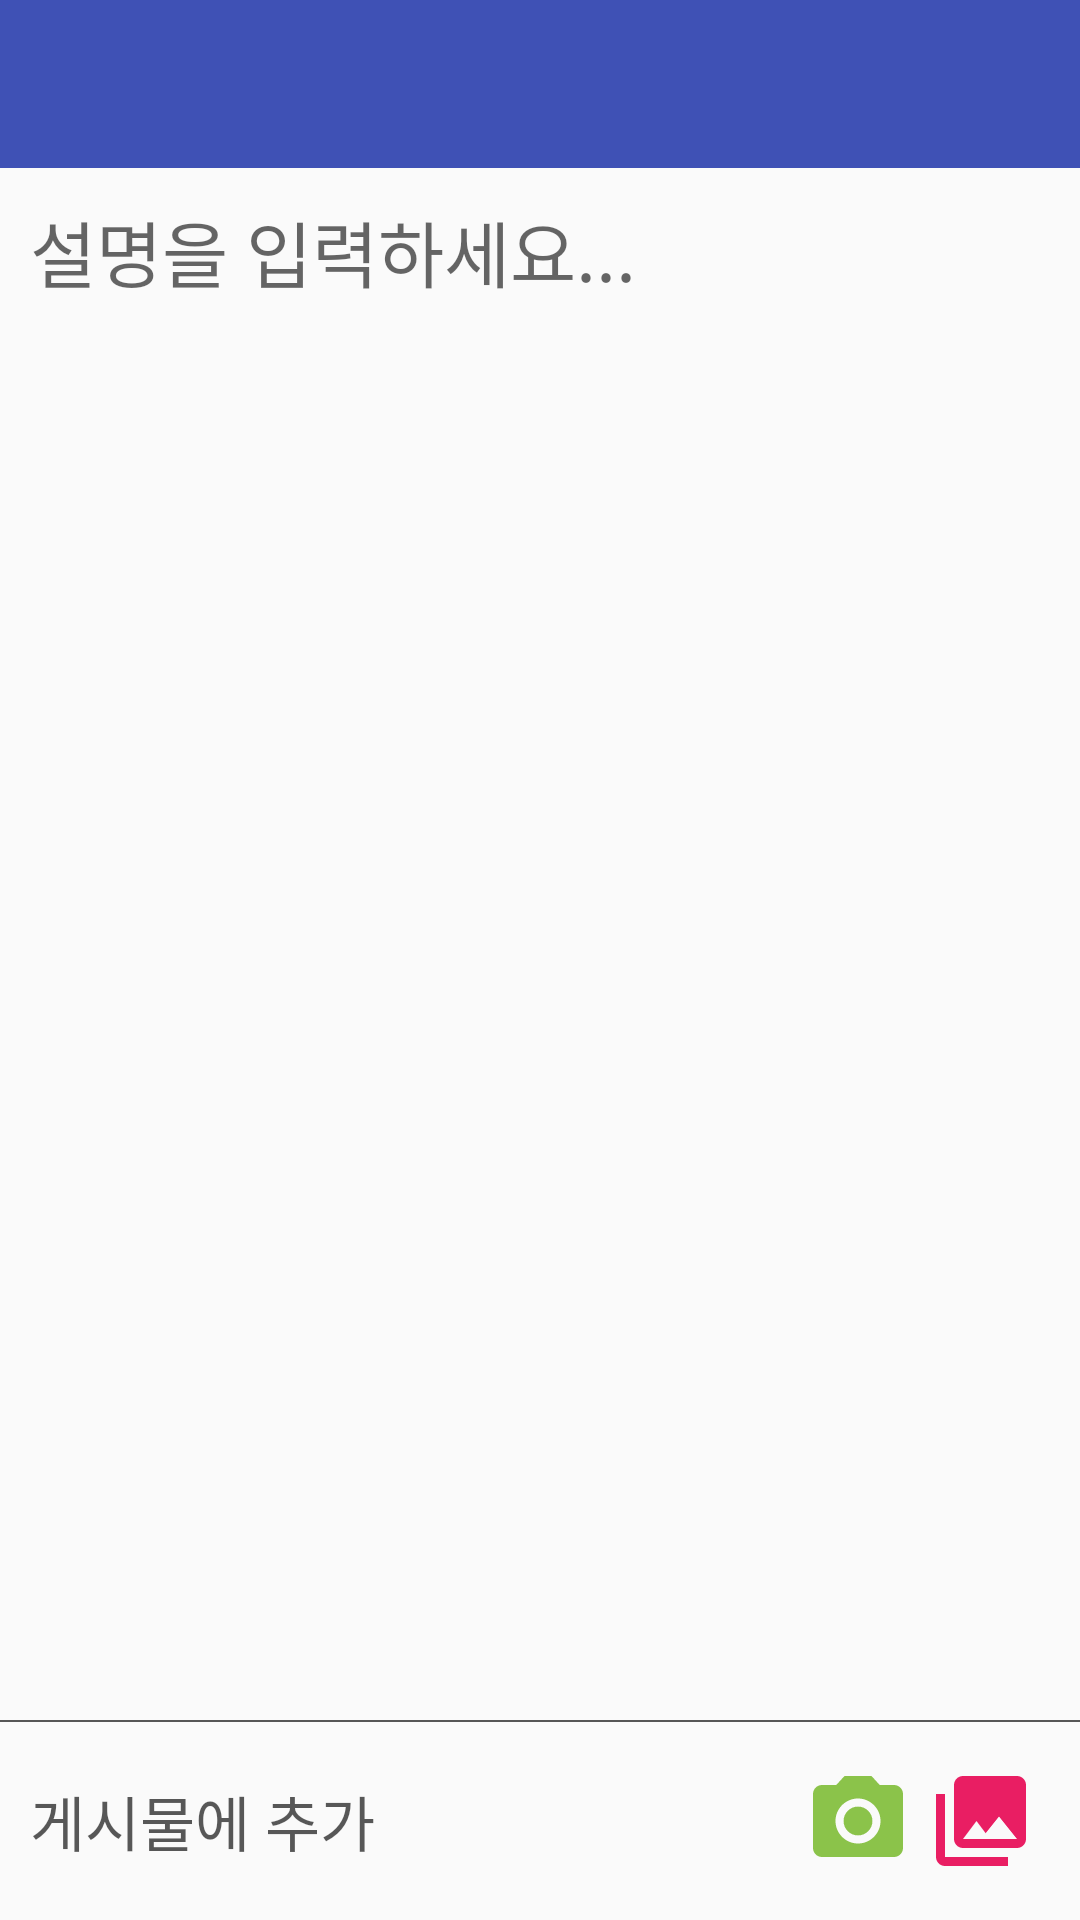

Where icons sit on this 1080px x 1920px app screen, as {"left": x1, "top": y1, "right": x2, "bottom": y2}:
camera: {"left": 813, "top": 1776, "right": 903, "bottom": 1857}
collections: {"left": 936, "top": 1776, "right": 1026, "bottom": 1866}
